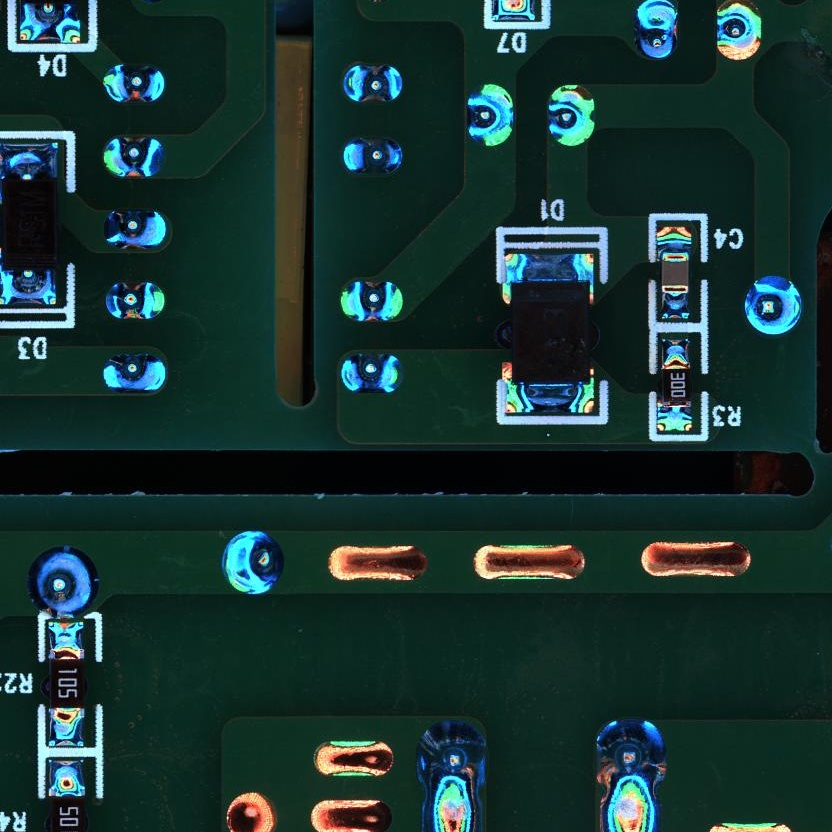spot: (412, 713, 493, 792), (589, 717, 669, 790), (28, 545, 100, 619), (219, 528, 285, 596), (741, 272, 804, 336), (461, 81, 516, 148), (543, 82, 598, 148), (98, 131, 167, 181), (337, 349, 406, 396), (334, 276, 405, 321), (630, 1, 683, 61), (99, 60, 169, 105), (712, 1, 763, 61), (100, 206, 168, 249), (98, 350, 167, 391), (341, 63, 406, 105), (104, 278, 167, 320), (340, 135, 405, 175)
